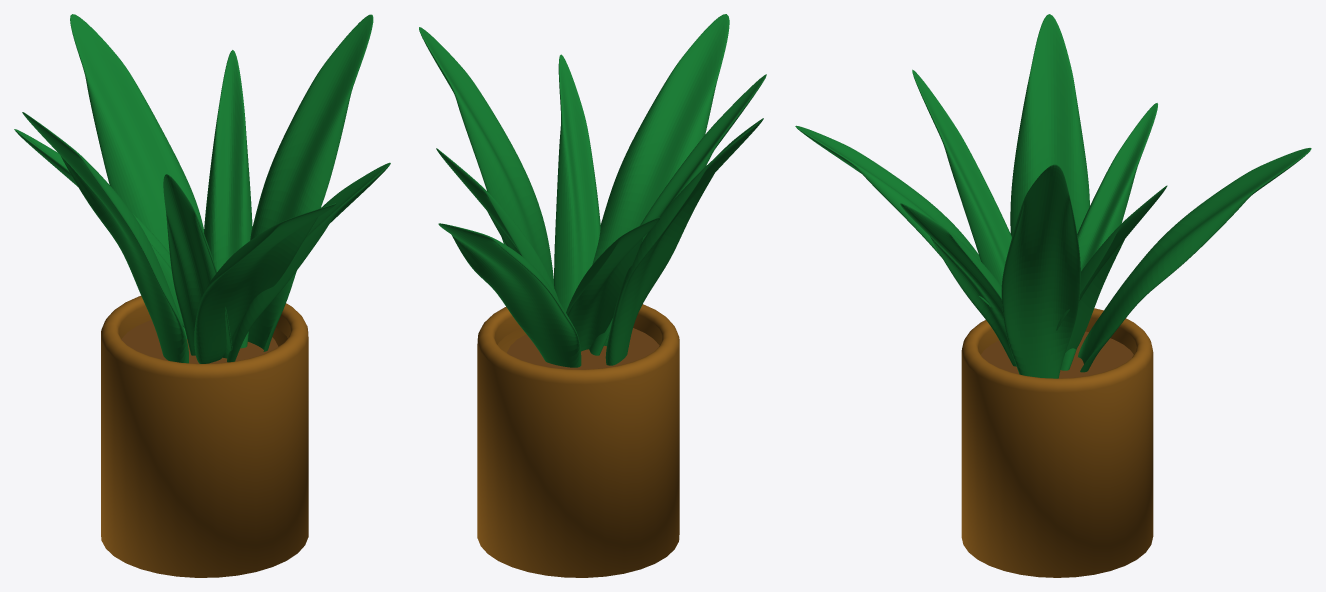
Rendered from planta2.fbx.
The picture shows the model from 3 angles, left to right: view 1: azimuth 30°, elevation 25°; view 2: azimuth 150°, elevation 25°; view 3: azimuth 270°, elevation 25°; orthographic projection. The views are drawn at different scales.
Parts seen in each view (by area): view 1: Cylinder, Plane.002, Plane.001, Plane, Plane.003, Plane.006, Plane.007, Plane.004, Cylinder.001, Plane.005; view 2: Cylinder, Plane, Plane.004, Plane.002, Plane.001, Plane.003, Plane.005, Plane.007, Plane.006, Cylinder.001; view 3: Cylinder, Plane.002, Plane.003, Plane.001, Plane.007, Plane.005, Plane.004, Plane, Plane.006, Cylinder.001.
Part boxes in pixels (x1,y1,x2,y2): Cylinder: (101, 296, 308, 577); Plane.002: (248, 14, 373, 351); Plane.001: (70, 14, 203, 338); Plane: (194, 203, 335, 363); Plane.003: (22, 112, 188, 363); Plane.006: (204, 50, 252, 348); Plane.007: (163, 174, 232, 358); Plane.004: (227, 162, 390, 362); Cylinder.001: (121, 320, 278, 363); Plane.005: (14, 129, 184, 327); Cylinder: (477, 304, 679, 577); Plane: (592, 14, 729, 346); Plane.004: (554, 54, 600, 312); Plane.002: (419, 27, 554, 287); Plane.001: (438, 223, 581, 367); Plane.003: (605, 118, 763, 365); Plane.005: (566, 217, 660, 351); Plane.007: (589, 74, 766, 355); Plane.006: (436, 148, 558, 300); Cylinder.001: (507, 328, 659, 369); Cylinder: (961, 308, 1153, 577); Plane.002: (1001, 164, 1080, 378); Plane.003: (1010, 14, 1089, 236); Plane.001: (1078, 148, 1311, 372); Plane.007: (912, 69, 1011, 285); Plane.005: (1060, 103, 1157, 370); Plane.004: (900, 203, 1016, 366); Plane: (795, 125, 992, 309); Plane.006: (1056, 185, 1167, 352); Cylinder.001: (981, 331, 1133, 378).
Size of the model in its own units: 317 by 413 by 432.
